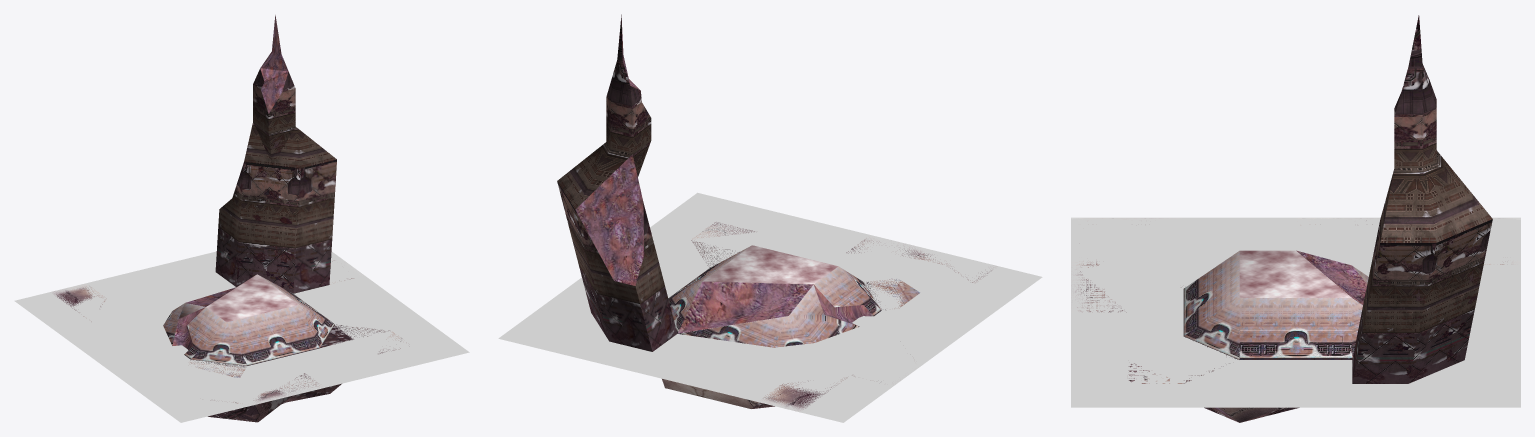
File: bbruin04.FBX
The picture shows the model from 3 angles, left to right: view 1: azimuth 30°, elevation 25°; view 2: azimuth 150°, elevation 25°; view 3: azimuth 270°, elevation 25°; orthographic projection. The views are drawn at different scales.
Visible parts, largest first — view 1: terrain__h, tower, roof06, damage, bbruin04, terrain; view 2: terrain__h, tower, damage, roof06, terrain; view 3: terrain__h, tower, roof06, terrain, damage.
Part boxes in pixels (left/top/right/bottom): terrain__h: left=14, top=251, right=469, bottom=422; tower: left=215, top=68, right=336, bottom=293; roof06: left=163, top=274, right=334, bottom=377; damage: left=172, top=15, right=288, bottom=350; bbruin04: left=208, top=324, right=389, bottom=422; terrain: left=52, top=260, right=406, bottom=404; terrain__h: left=498, top=192, right=1042, bottom=422; tower: left=557, top=14, right=677, bottom=351; damage: left=575, top=20, right=873, bottom=333; roof06: left=668, top=245, right=920, bottom=347; terrain: left=662, top=222, right=997, bottom=411; terrain__h: left=1071, top=217, right=1520, bottom=407; tower: left=1352, top=15, right=1492, bottom=383; roof06: left=1181, top=250, right=1368, bottom=359; terrain: left=1071, top=218, right=1520, bottom=422; damage: left=1296, top=163, right=1490, bottom=304.
Size of what is drawn, in the model's own units: 64 by 64 by 65.35.
